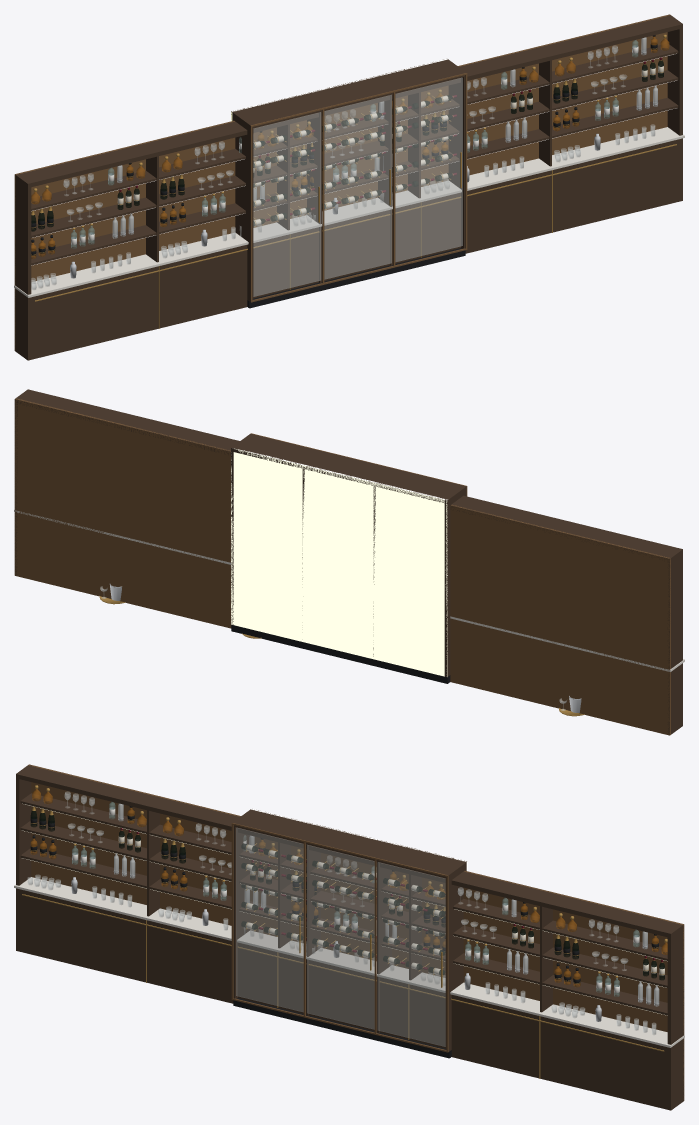
Rendered from halden_props.glb.
The picture shows the model from 3 angles, top to bottom: view 1: azimuth 30°, elevation 25°; view 2: azimuth 150°, elevation 25°; view 3: azimuth 330°, elevation 25°; orthographic projection.
Parts seen in each view (by area): view 1: BarBack_Carcass, WineWall_Carcass; view 2: BarBack_Carcass, WineWall_Carcass; view 3: BarBack_Carcass, WineWall_Carcass.
Boxes of the visible parts, <box> form: BarBack_Carcass: <box>14,14,684,360</box>; WineWall_Carcass: <box>231,58,467,308</box>; BarBack_Carcass: <box>14,389,684,735</box>; WineWall_Carcass: <box>231,433,467,683</box>; BarBack_Carcass: <box>14,764,684,1110</box>; WineWall_Carcass: <box>231,808,467,1058</box>.
Bounding box in the file's own units: 9.72 × 2.6 × 0.577.
